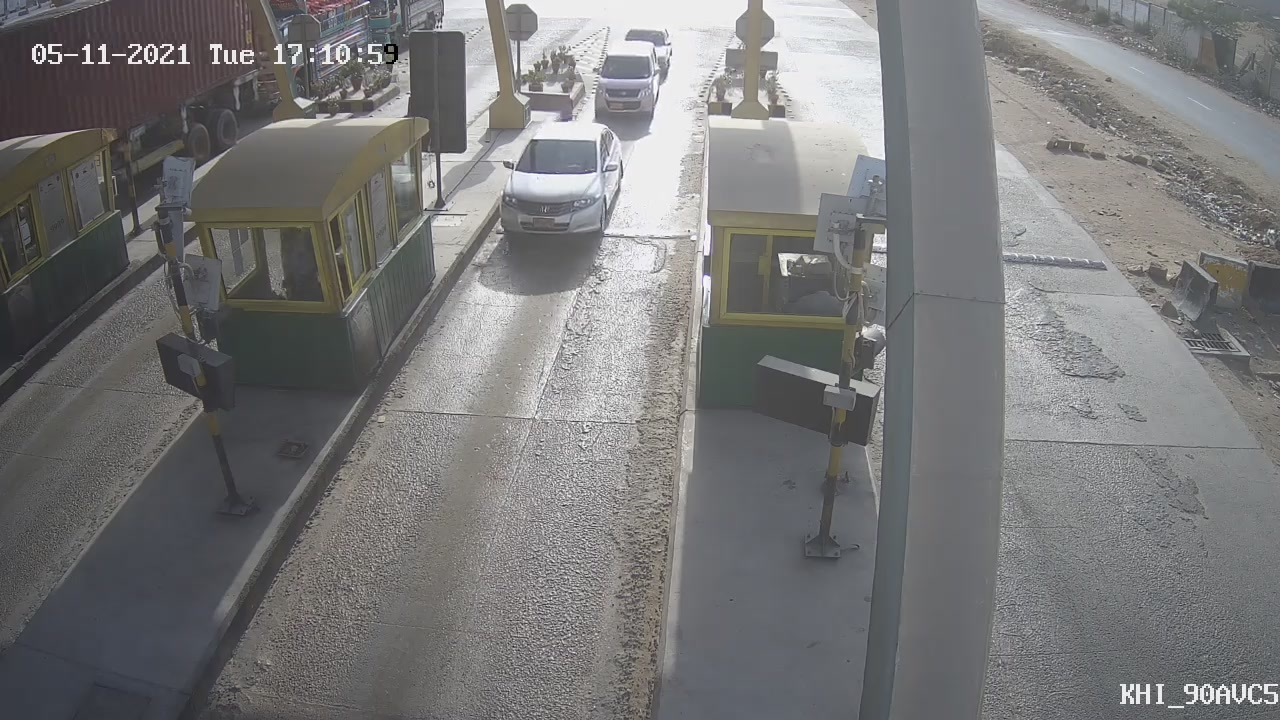F1: (477, 105, 642, 252), (579, 29, 674, 136)
